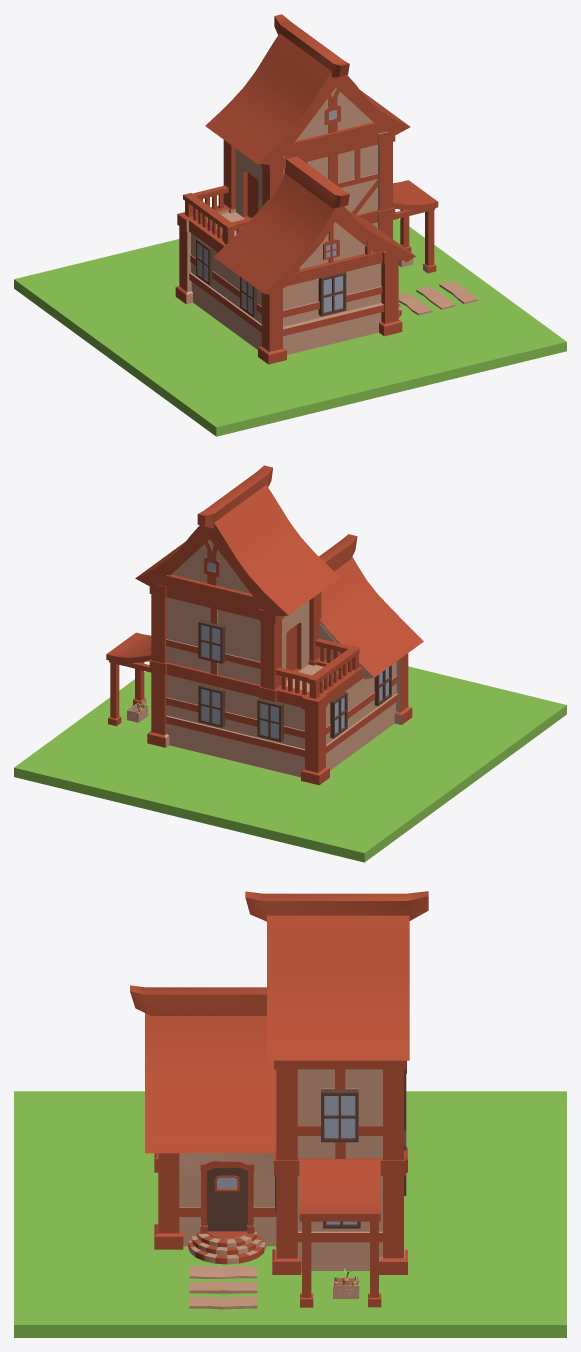
File: House_A.fbx
3 views of the same model, one above another, from view 1: azimuth 30°, elevation 25°; view 2: azimuth 150°, elevation 25°; view 3: azimuth 270°, elevation 25° (orthographic). The views are drawn at different scales.
Parts seen in each view (by area): view 1: pCube7, Plane, Cube.001, Cube.009; view 2: pCube7, Plane, Cube.001; view 3: Plane, pCube7, Cube.001, Cube.009, pCube7.003.
Boxes of the visible parts, x1,y1,x2,y2 form: pCube7: (175,14,438,364); Plane: (14,218,566,436); Cube.001: (196,238,346,317); Cube.009: (398,280,477,315); pCube7: (106,465,423,785); Plane: (14,666,566,862); Cube.001: (198,620,391,741); Plane: (14,1091,566,1337); pCube7: (130,891,428,1307); Cube.001: (275,1061,406,1228); Cube.009: (189,1265,257,1309); pCube7.003: (207,1168,247,1231).
Bounding box in the file's own units: 3006 × 2117 × 3006.
